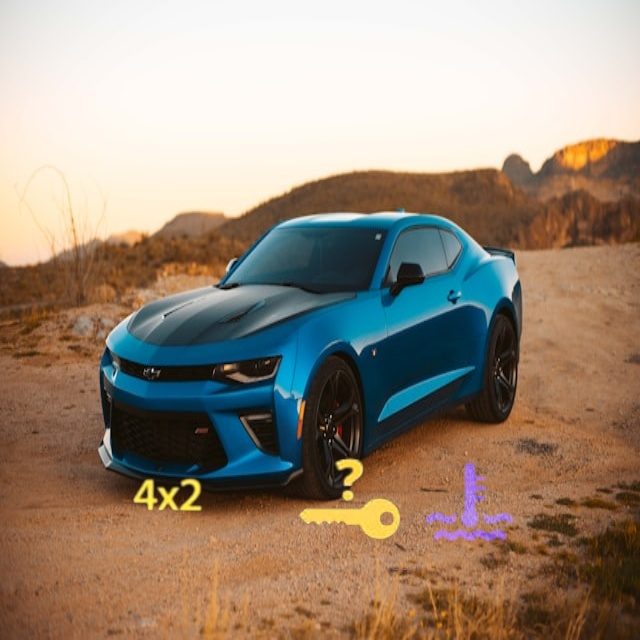symbol: (271, 422, 427, 578), (405, 438, 534, 567), (105, 434, 230, 559)
